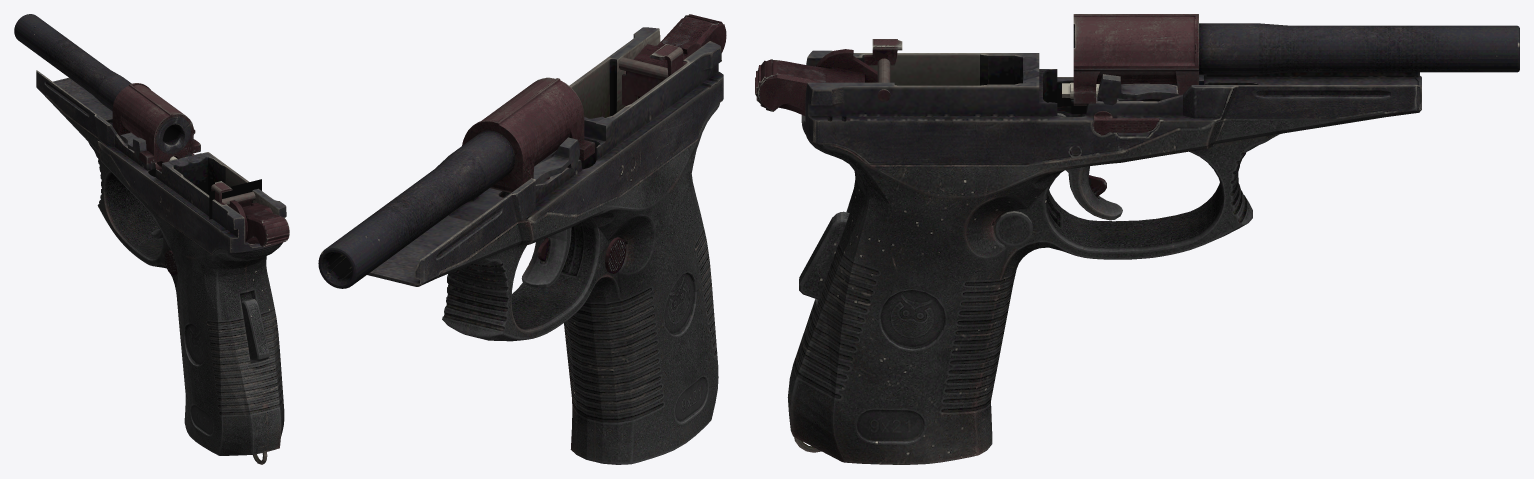
3 renders of one model, left to right at view 1: azimuth 30°, elevation 25°; view 2: azimuth 150°, elevation 25°; view 3: azimuth 270°, elevation 25°, orthographic. The views are drawn at different scales.
Visible parts, largest first — view 1: TW_59f98b4986f7746f546d2cef_PZ_Import; view 2: TW_59f98b4986f7746f546d2cef_PZ_Import; view 3: TW_59f98b4986f7746f546d2cef_PZ_Import.
Boxes of the visible parts, x1,y1,x2,y2 form: TW_59f98b4986f7746f546d2cef_PZ_Import: (14, 14, 289, 464); TW_59f98b4986f7746f546d2cef_PZ_Import: (318, 14, 726, 464); TW_59f98b4986f7746f546d2cef_PZ_Import: (755, 14, 1519, 464).
Bounding box in the file's own units: 0.0199 × 0.1289 × 0.0812.
1 material, 1 textured.
